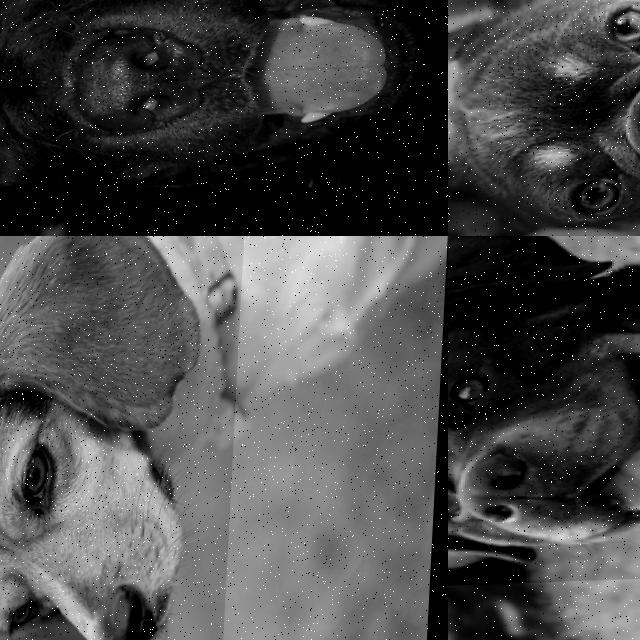beagle: (0, 236, 249, 640)
bulldog: (448, 0, 640, 236)
rottweiler: (0, 0, 448, 236), (448, 236, 640, 591)
